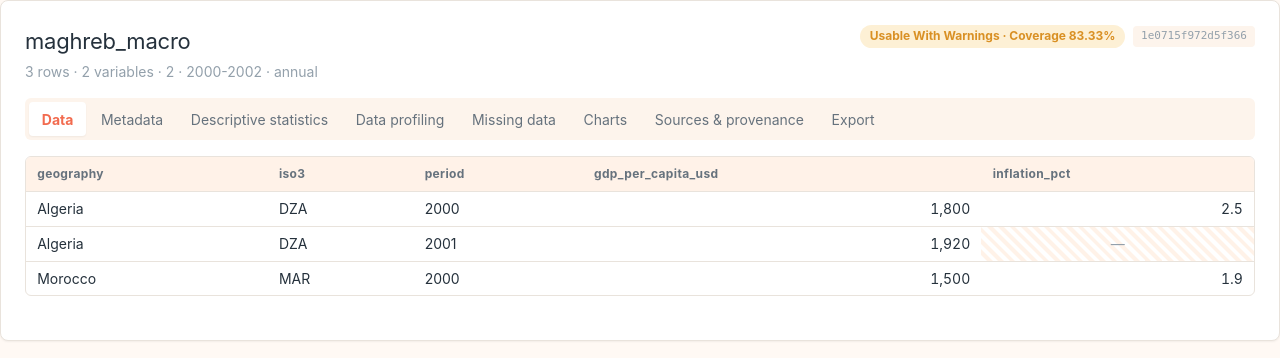
Test case: DatasetWorkspace › states the descriptive-only boundary
Expected: the heading "maghreb_macro" is shown, [25,28,191,54]
Click the tab "Descriptive statistics". click: (259, 119)
box: [178,102,341,136]
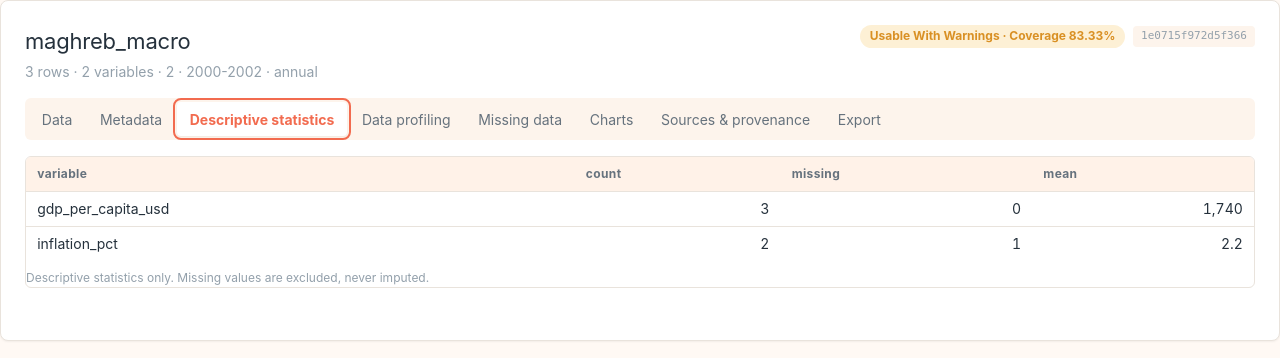
Now the text "never imputed" is shown, box [26,270,429,284]
